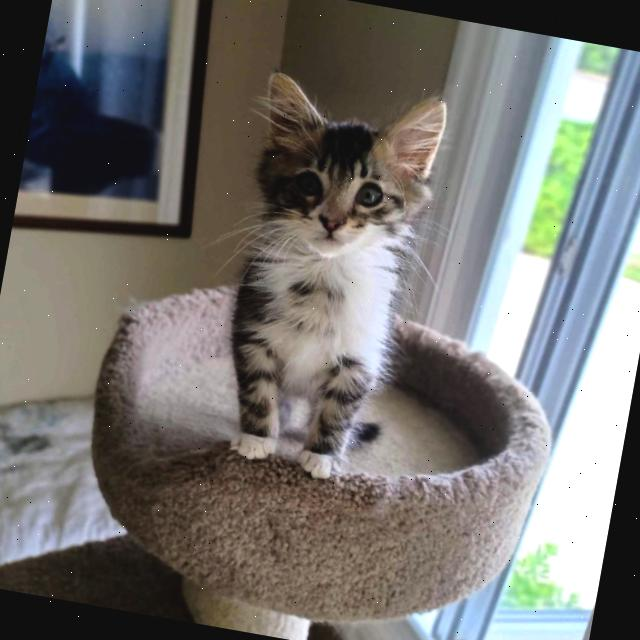maine_coon_cat: (221, 54, 468, 298)
